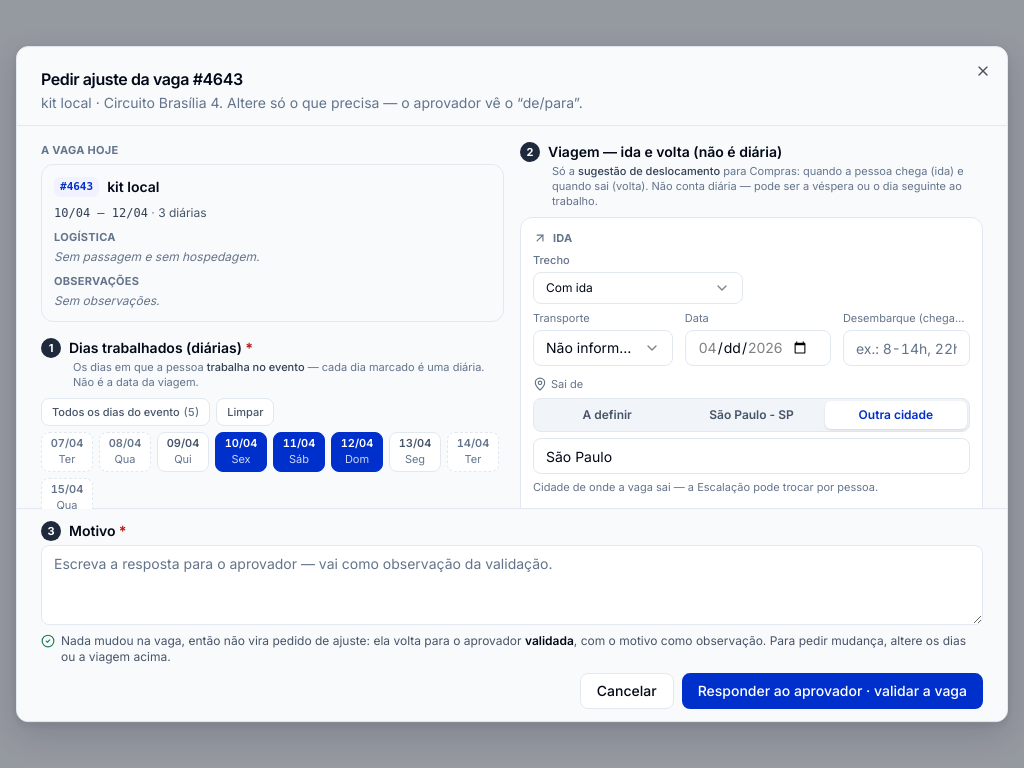
it: AdjustRequestDialog — responder sem mudar a vaga › mexeu em um dia: o botão volta a ser 'Enviar pedido de ajuste' e a explicação some
Click the button "07/04 Ter" at x=67, y=452, box [41,432,93,472]
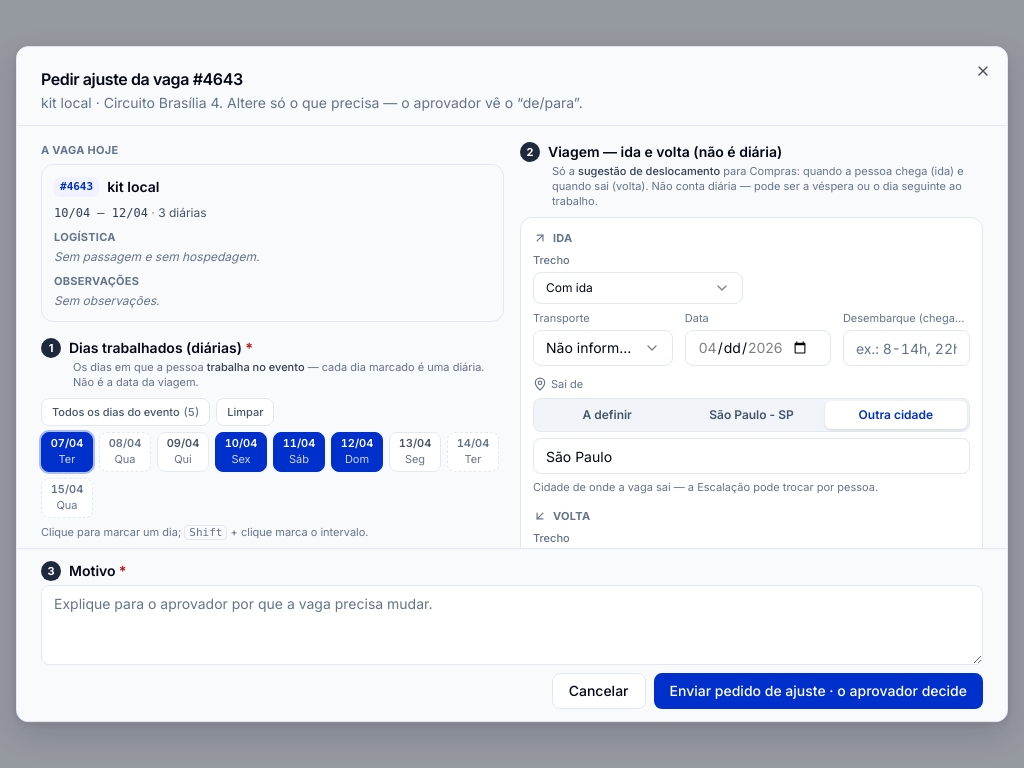
Now the button with test id "button-enviar-ajuste" shows "Enviar pedido de ajuste", box [654,673,983,709]
Now the element with test id "adjust-so-responder" is gone
